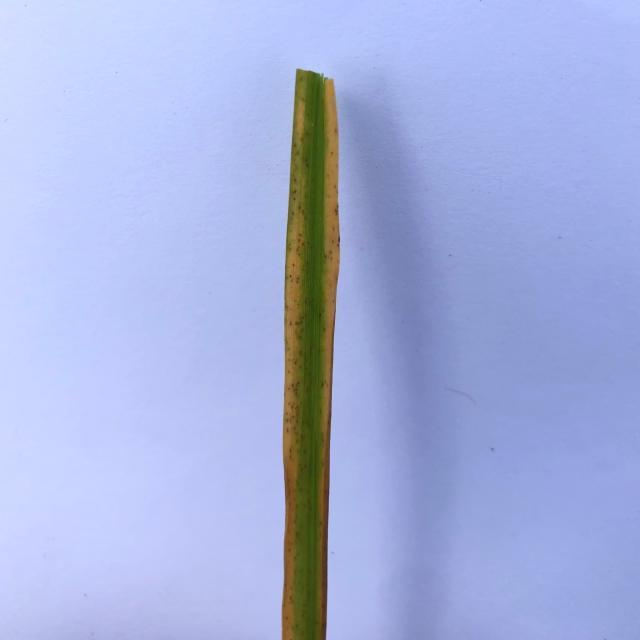Rice Tungro: (317, 73, 338, 640), (286, 67, 303, 639)
